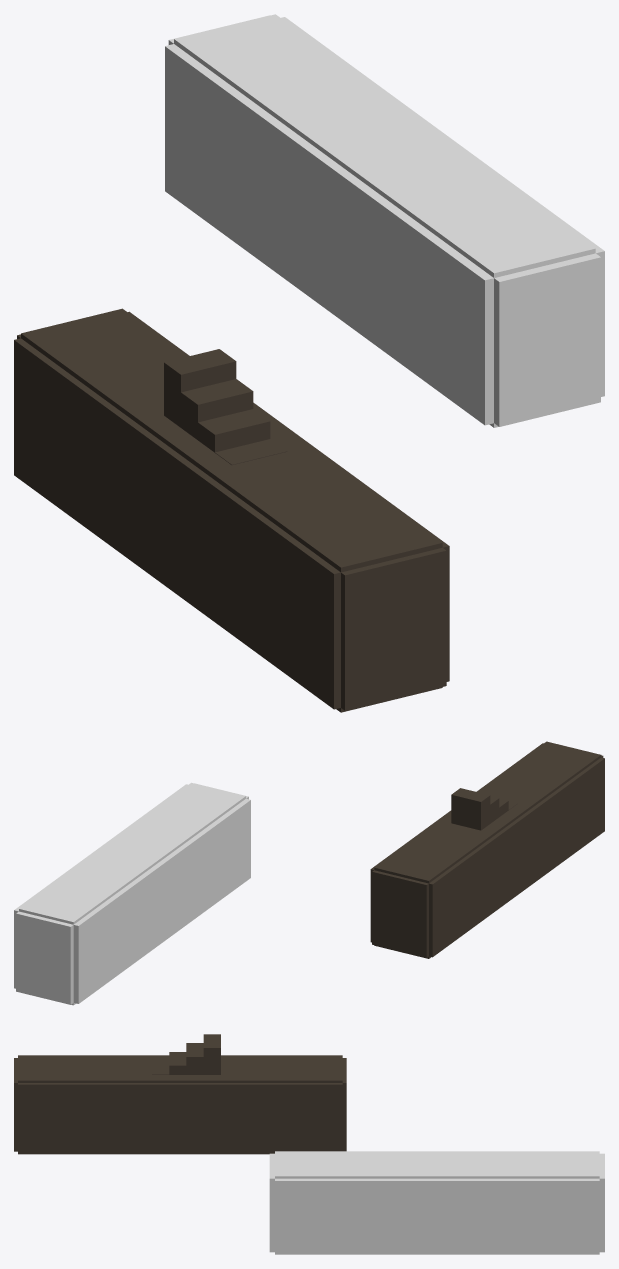
The model's file is env_shell_z4_pasillo.glb.
3 renders of one model, top to bottom at view 1: azimuth 30°, elevation 25°; view 2: azimuth 150°, elevation 25°; view 3: azimuth 270°, elevation 25°, orthographic. The views are drawn at different scales.
Visible parts, largest first — view 1: Z4_Wall_W, Z4_Wall_W.001, Z4_Ceiling, Z4_Ceiling.001, Z4_Wall_S, Z4_Wall_S.001, Z4_Step_10, Z4_Step_09, Z4_Step_08, Z4_Wall_E, Z4_Wall_E.001, Z4_Step_07; view 2: Z4_Wall_W, Z4_Wall_W.001, Z4_Ceiling, Z4_Ceiling.001, Z4_Wall_N, Z4_Wall_N.001, Z4_Step_10, Z4_Wall_E, Z4_Wall_E.001; view 3: Z4_Wall_E, Z4_Wall_E.001, Z4_Ceiling, Z4_Ceiling.001, Z4_Step_10, Z4_Wall_N, Z4_Wall_S, Z4_Step_09, Z4_Floor.001, Z4_Wall_N.001, Z4_Step_08, Z4_Wall_S.001.
Part boxes in pixels (bbox=[...]): Z4_Wall_W: bbox=[165, 44, 493, 425]; Z4_Wall_W.001: bbox=[14, 338, 340, 709]; Z4_Ceiling: bbox=[174, 14, 595, 277]; Z4_Ceiling.001: bbox=[21, 308, 442, 572]; Z4_Wall_S: bbox=[494, 253, 600, 426]; Z4_Wall_S.001: bbox=[341, 547, 446, 710]; Z4_Step_10: bbox=[164, 349, 236, 427]; Z4_Step_09: bbox=[181, 379, 253, 439]; Z4_Step_08: bbox=[198, 409, 270, 452]; Z4_Wall_E: bbox=[281, 17, 604, 396]; Z4_Wall_E.001: bbox=[128, 311, 449, 681]; Z4_Step_07: bbox=[215, 439, 287, 465]; Z4_Wall_W: bbox=[73, 798, 250, 1003]; Z4_Wall_W.001: bbox=[429, 757, 604, 957]; Z4_Ceiling: bbox=[19, 782, 245, 924]; Z4_Ceiling.001: bbox=[374, 741, 601, 883]; Z4_Wall_N: bbox=[16, 911, 73, 1004]; Z4_Wall_N.001: bbox=[372, 870, 428, 957]; Z4_Step_10: bbox=[451, 788, 490, 830]; Z4_Wall_E: bbox=[14, 784, 187, 988]; Z4_Wall_E.001: bbox=[370, 743, 543, 942]; Z4_Wall_E: bbox=[275, 1178, 599, 1254]; Z4_Wall_E.001: bbox=[18, 1083, 342, 1153]; Z4_Ceiling: bbox=[275, 1151, 599, 1178]; Z4_Ceiling.001: bbox=[18, 1055, 342, 1082]; Z4_Step_10: bbox=[203, 1034, 220, 1074]; Z4_Wall_N: bbox=[599, 1153, 604, 1252]; Z4_Wall_S: bbox=[269, 1153, 274, 1252]; Z4_Step_09: bbox=[186, 1043, 203, 1074]; Z4_Floor.001: bbox=[18, 1153, 274, 1154]; Z4_Wall_N.001: bbox=[342, 1058, 346, 1151]; Z4_Step_08: bbox=[169, 1052, 186, 1074]; Z4_Wall_S.001: bbox=[14, 1058, 17, 1151].
Size of the model in its own units: 11.35 by 4.1 by 21.85.
